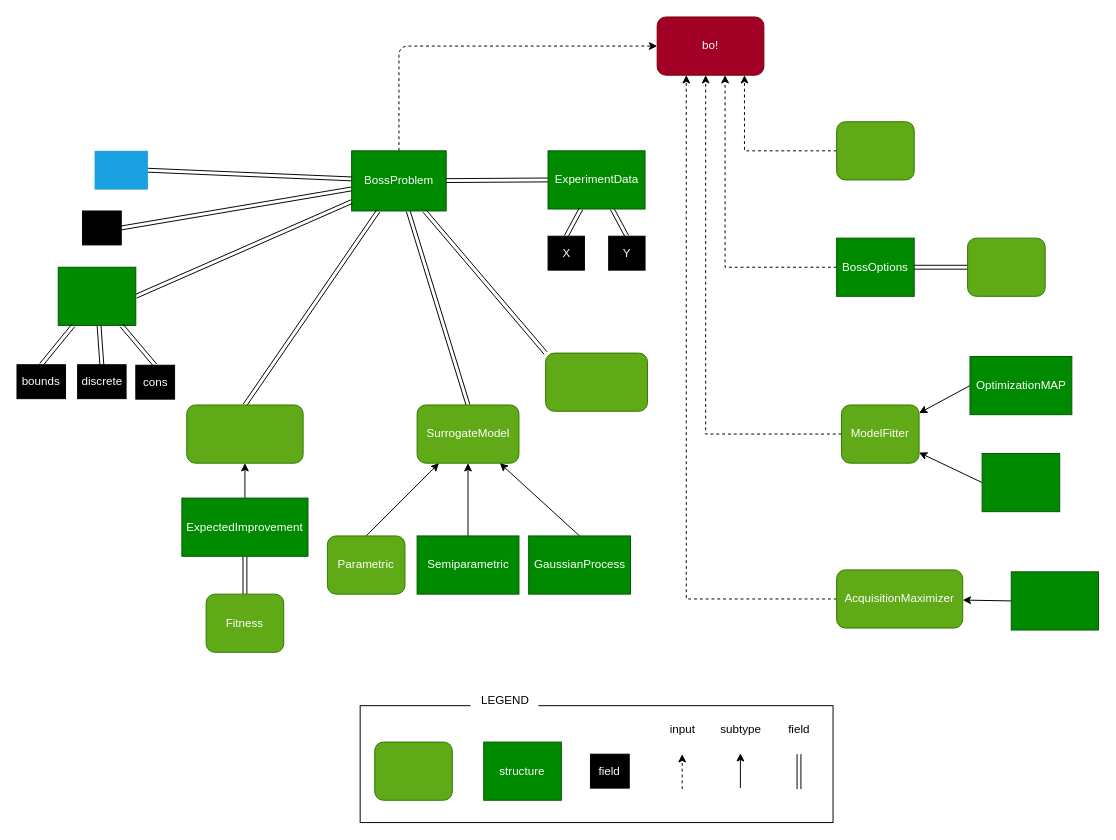
The diagram is 1116 pixels wide and 840 high, and some of its shapes have lost their labels. Here are the shapes that lost their labels. From the top down, the centre of each, then its label:
At point 120,169: "objective function".
At point 875,150: "TermCond".
At point 101,227: "y_max".
At point 1006,266: "BossCallback".
At point 96,295: "Domain".
At point 596,381: "FittedParams".
At point 244,433: "AcquisitionFunction".
At point 1020,482: "TuringBI".
At point 1054,600: "OptimizationAM".
At point 413,770: "abstract type".
